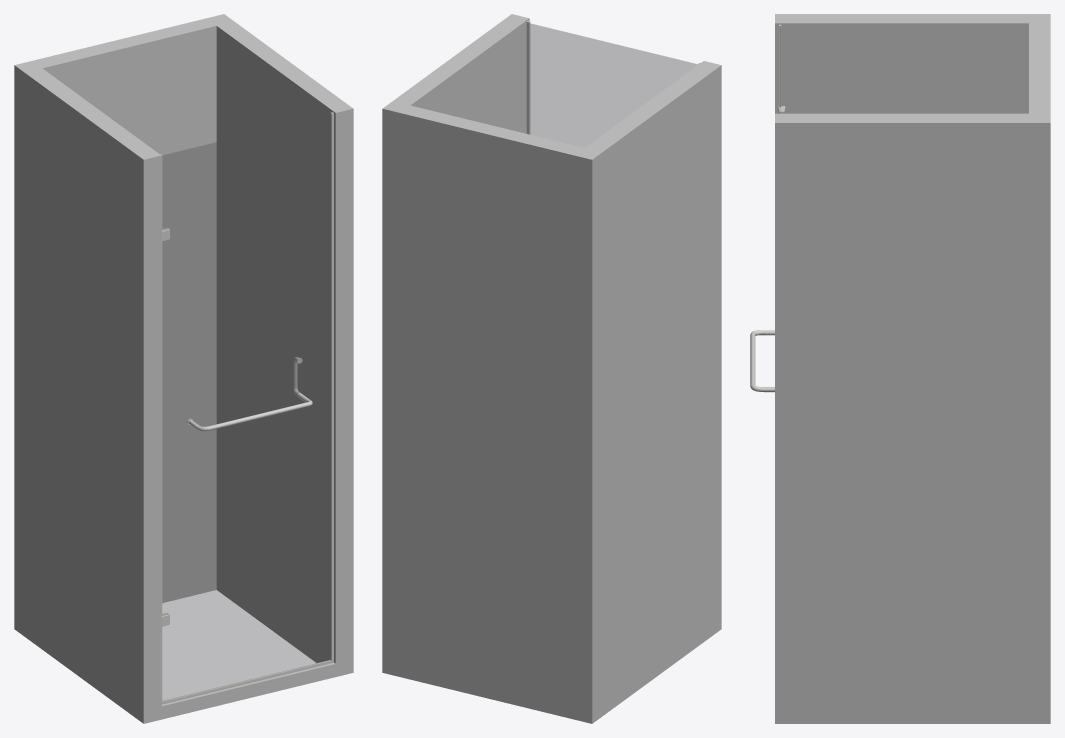
The model's file is Shower_enclosures_010.gltf.
3 views of the same model, side by side, from view 1: azimuth 30°, elevation 25°; view 2: azimuth 150°, elevation 25°; view 3: azimuth 270°, elevation 25° (orthographic). The views are drawn at different scales.
Visible parts, largest first — view 1: Shower_enclosures_010; view 2: Shower_enclosures_010; view 3: Shower_enclosures_010.
Boxes of the visible parts, x1,y1,x2,y2 form: Shower_enclosures_010: (14, 14, 353, 723); Shower_enclosures_010: (382, 14, 721, 723); Shower_enclosures_010: (750, 14, 1050, 723).
Size of the model in its own units: 7.58 by 19.49 by 8.83.
2 materials, 2 textured.
